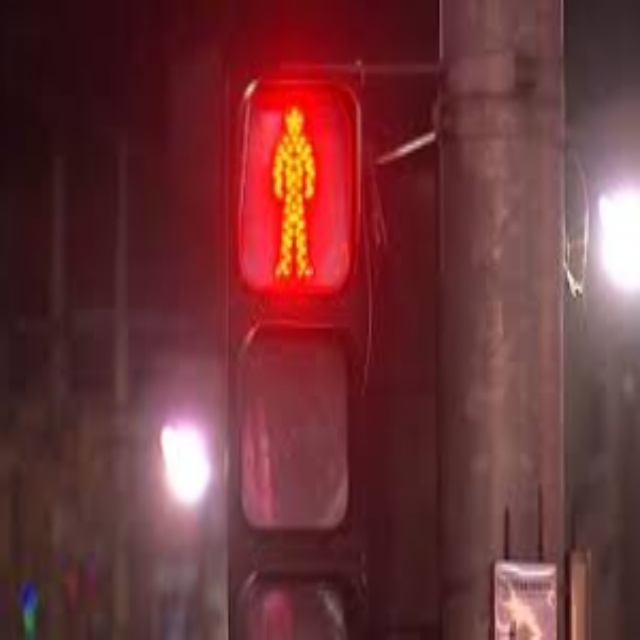red_light: (233, 77, 363, 297)
